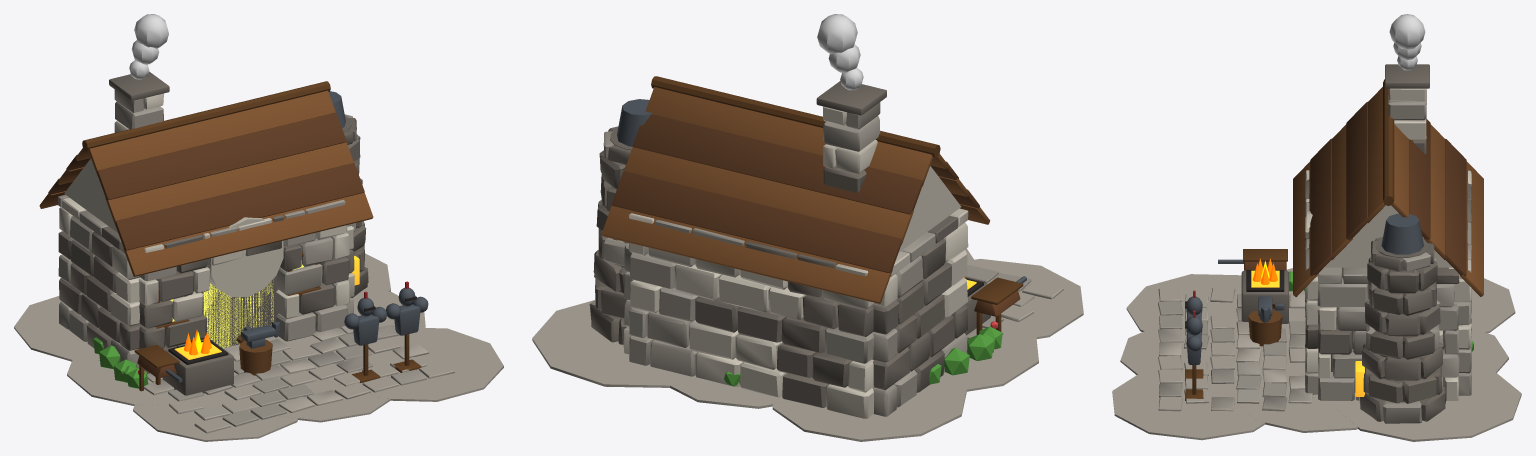
File: kuznia_poz13.glb
3 renders of one model, left to right at view 1: azimuth 30°, elevation 25°; view 2: azimuth 150°, elevation 25°; view 3: azimuth 270°, elevation 25°, orthographic. The views are drawn at different scales.
Parts seen in each view (by area): view 1: kuznia_poz13; view 2: kuznia_poz13; view 3: kuznia_poz13.
Boxes of the visible parts, x1=… form: kuznia_poz13: x1=14, y1=14, x2=503, y2=441; kuznia_poz13: x1=532, y1=14, x2=1083, y2=441; kuznia_poz13: x1=1112, y1=14, x2=1521, y2=441.
Bounding box in the file's own units: 8.62 × 7.33 × 8.64.
